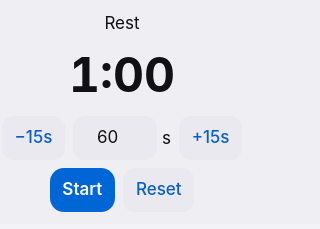
Test: numeric inputs › allows typing a value whose first digit is below the minimum
Step 1. Clear the number field named "Duration in seconds" → (115, 138), box [73,116,157,160]
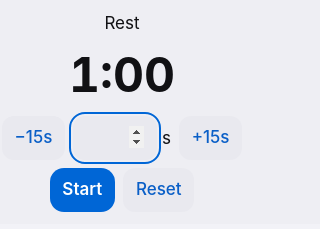
Step 2. Type "1" into the number field named "Duration in seconds" → (115, 138), box [73,116,157,160]
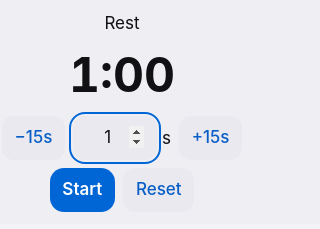
Expected: the text "1:00" is shown, [69,43,175,108]
Step 3. Type "5" into the number field named "Duration in seconds" → (115, 138), box [73,116,157,160]
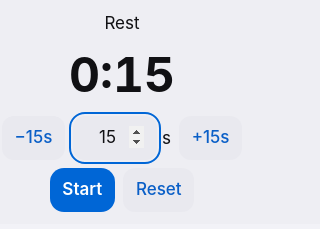
Expected: the number field named "Duration in seconds" holds "15"
Expected: the text "0:15" is shown, [69,43,175,108]
Step 4. Replace the text in the number field named "Duration in seconds" with "2" → (115, 138), box [73,116,157,160]
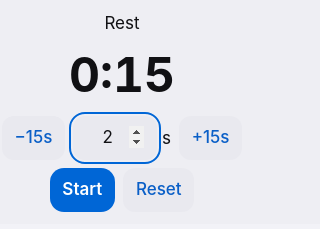
Step 5. Press Tab
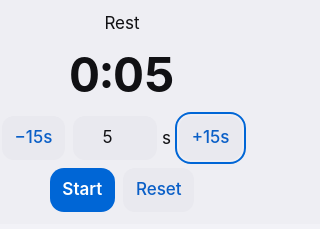
Expected: the text "0:05" is shown, [69,43,175,108]
